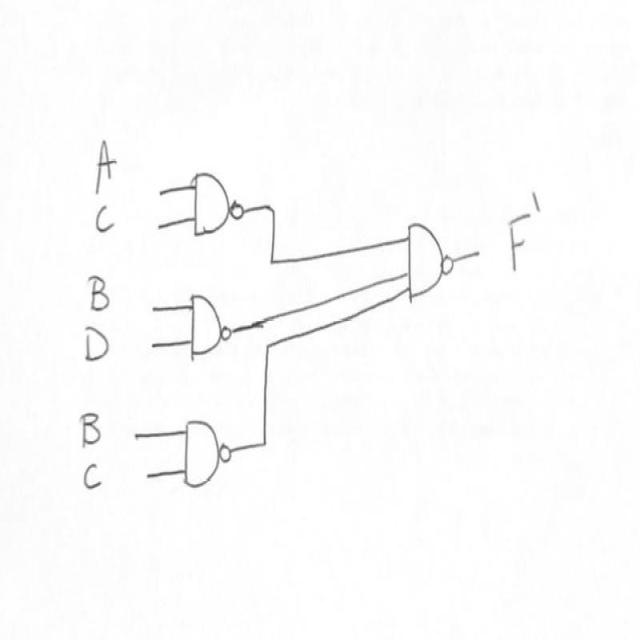NAND: (396, 210, 467, 320), (186, 142, 250, 256), (181, 286, 243, 387), (178, 412, 238, 505)
